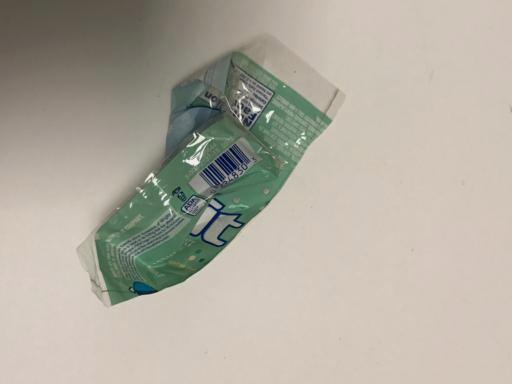trash: (76, 33, 346, 311)
